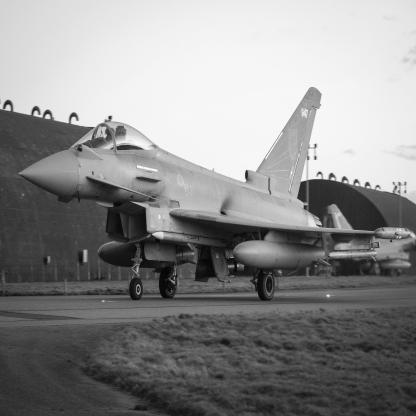EF2000: (19, 88, 412, 301), (325, 204, 416, 279)
